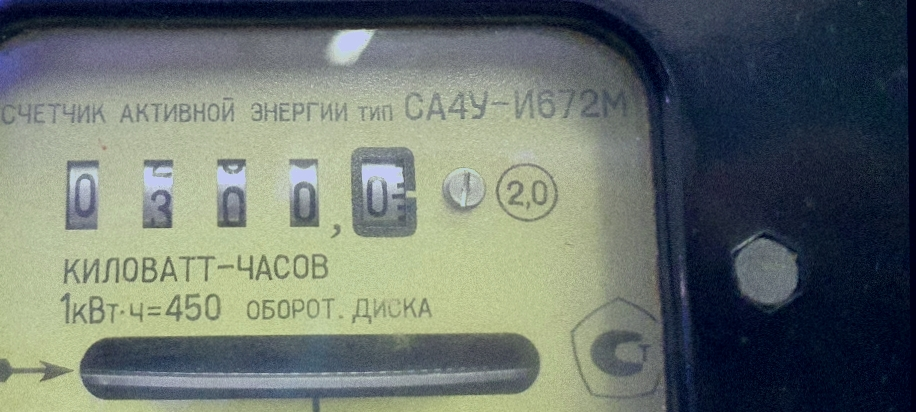0: (362, 171, 390, 220), (71, 168, 97, 220), (288, 179, 317, 225), (218, 181, 245, 229)
3: (145, 185, 173, 228)
screen: (43, 139, 425, 249)
